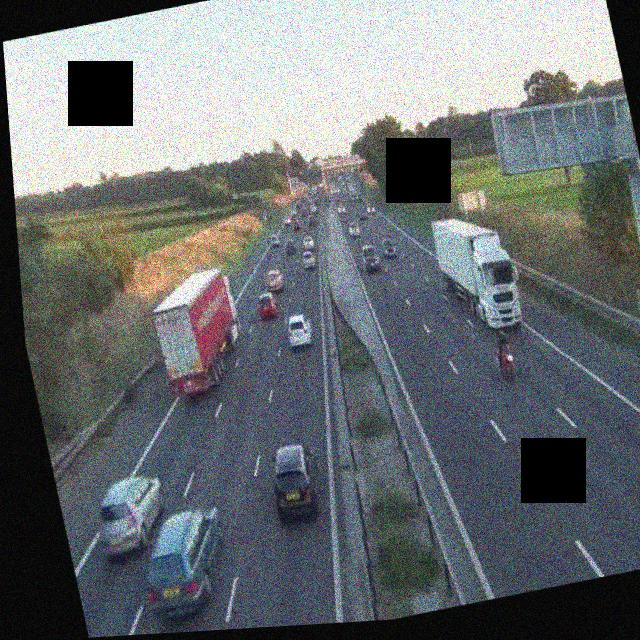car: (130, 502, 241, 622), (88, 471, 173, 558), (264, 440, 327, 523), (284, 311, 314, 349), (359, 243, 382, 274), (256, 291, 279, 320), (264, 265, 285, 294), (380, 236, 398, 260), (300, 248, 317, 270), (283, 237, 297, 255), (348, 221, 361, 238), (269, 234, 282, 249), (288, 214, 300, 229), (358, 205, 370, 219), (336, 201, 347, 215), (366, 201, 377, 215), (306, 215, 317, 228), (309, 203, 318, 216)
truck: (145, 265, 252, 400), (426, 206, 526, 341)
